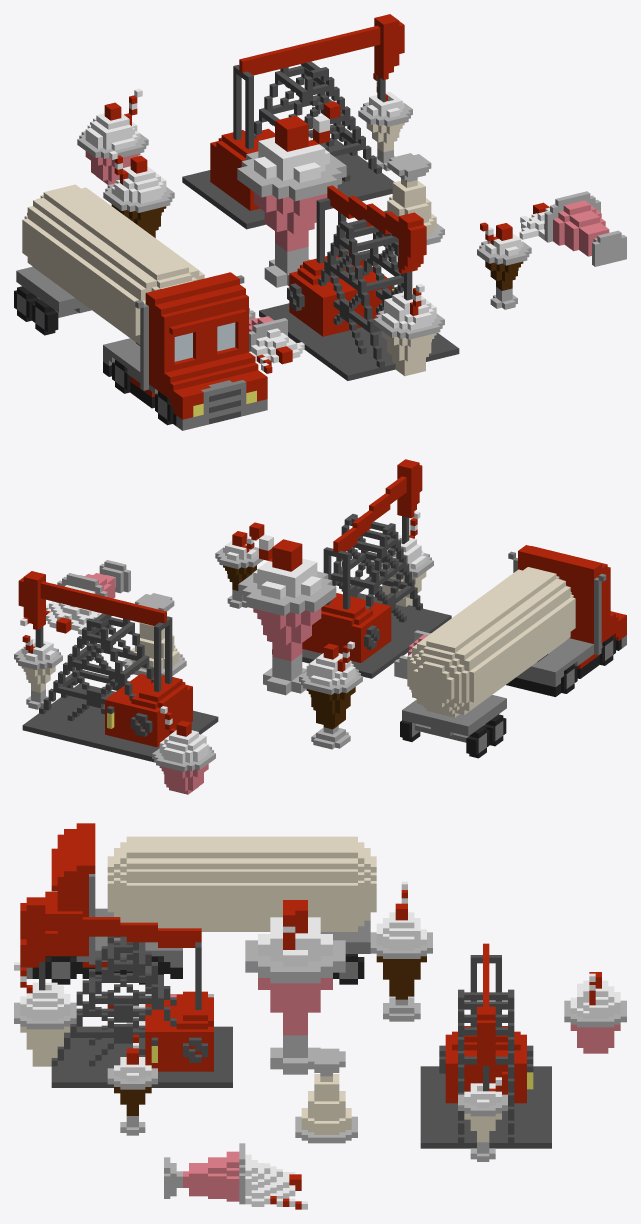
The model's file is milkshakes-1.obj.
3 views of the same model, one above another, from view 1: azimuth 30°, elevation 25°; view 2: azimuth 150°, elevation 25°; view 3: azimuth 270°, elevation 25° (orthographic). The views are drawn at different scales.
Visible parts, largest first — view 1: milkshakes-1; view 2: milkshakes-1; view 3: milkshakes-1.
Part boxes in pixels (left/top/right/bottom): milkshakes-1: left=14, top=14, right=626, bottom=430; milkshakes-1: left=14, top=459, right=626, bottom=794; milkshakes-1: left=14, top=823, right=626, bottom=1209.
Bounding box in the file's own units: 103 × 30 × 98.
1 material, 1 textured.
